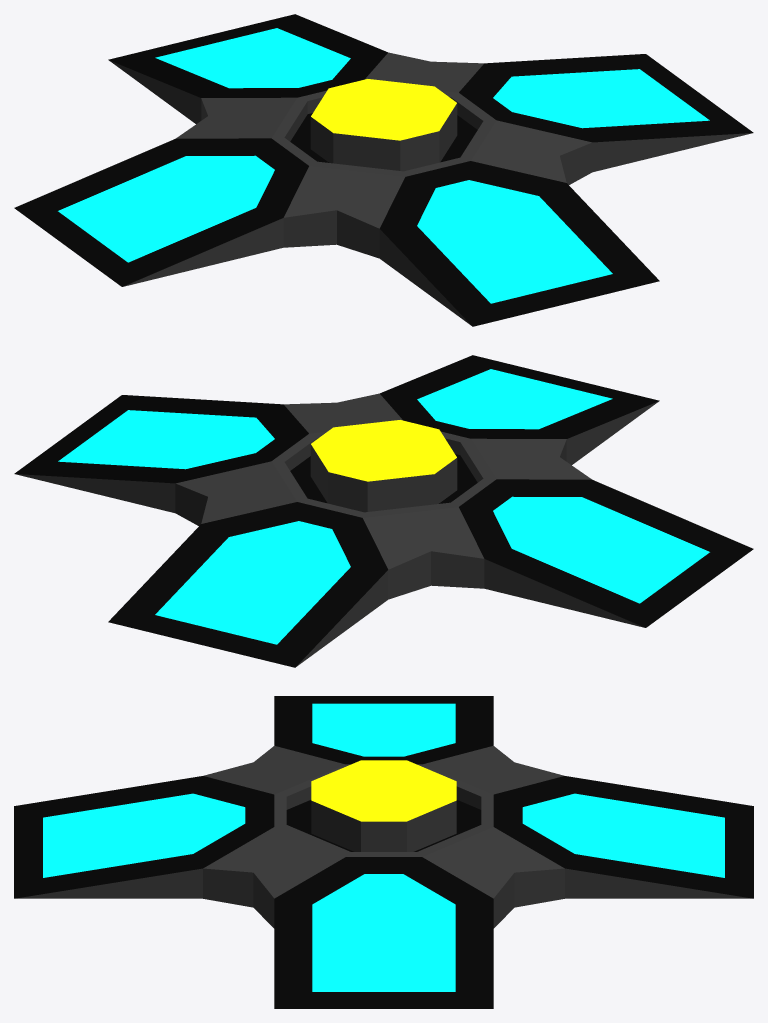
Rendered from ShadowDeliveryPoint.fbx.
3 renders of one model, top to bottom at view 1: azimuth 30°, elevation 25°; view 2: azimuth 150°, elevation 25°; view 3: azimuth 270°, elevation 25°, orthographic.
Parts seen in each view (by area): view 1: ShadowDeliveryPoint; view 2: ShadowDeliveryPoint; view 3: ShadowDeliveryPoint.
Part boxes in pixels (box(x1,y1,x2,y2)): ShadowDeliveryPoint: box(14, 14, 753, 326); ShadowDeliveryPoint: box(14, 355, 753, 667); ShadowDeliveryPoint: box(14, 696, 753, 1008).
Bounding box in the file's own units: 675 × 61.99 × 675.
